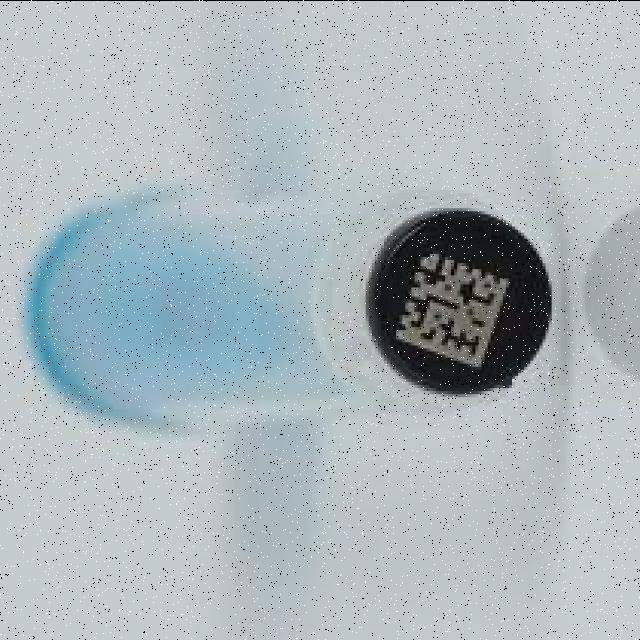datamatrix: (381, 244, 530, 378)
